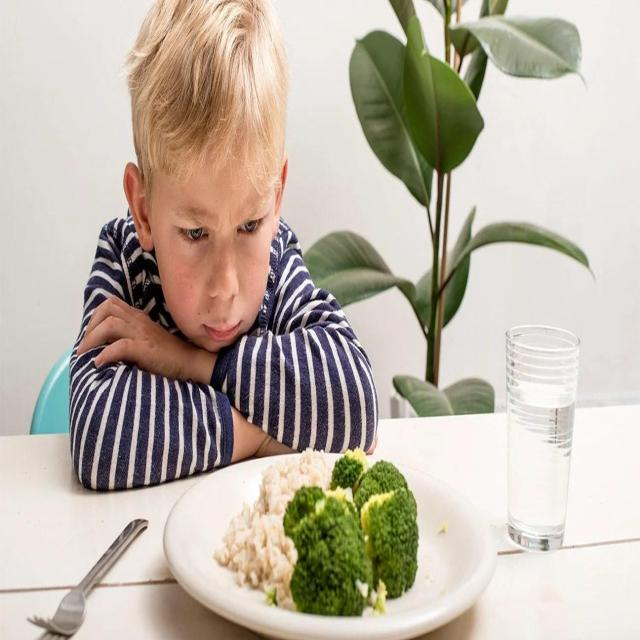child: (66, 2, 386, 490)
